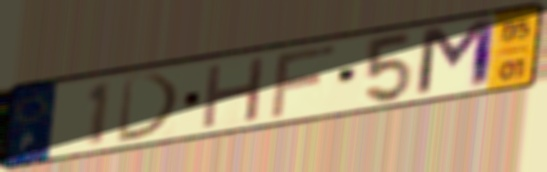1: (84, 77, 113, 150)
5: (360, 29, 415, 106)
D: (114, 70, 186, 147)
F: (266, 41, 342, 123)
H: (198, 54, 270, 133)
M: (411, 15, 500, 101)
